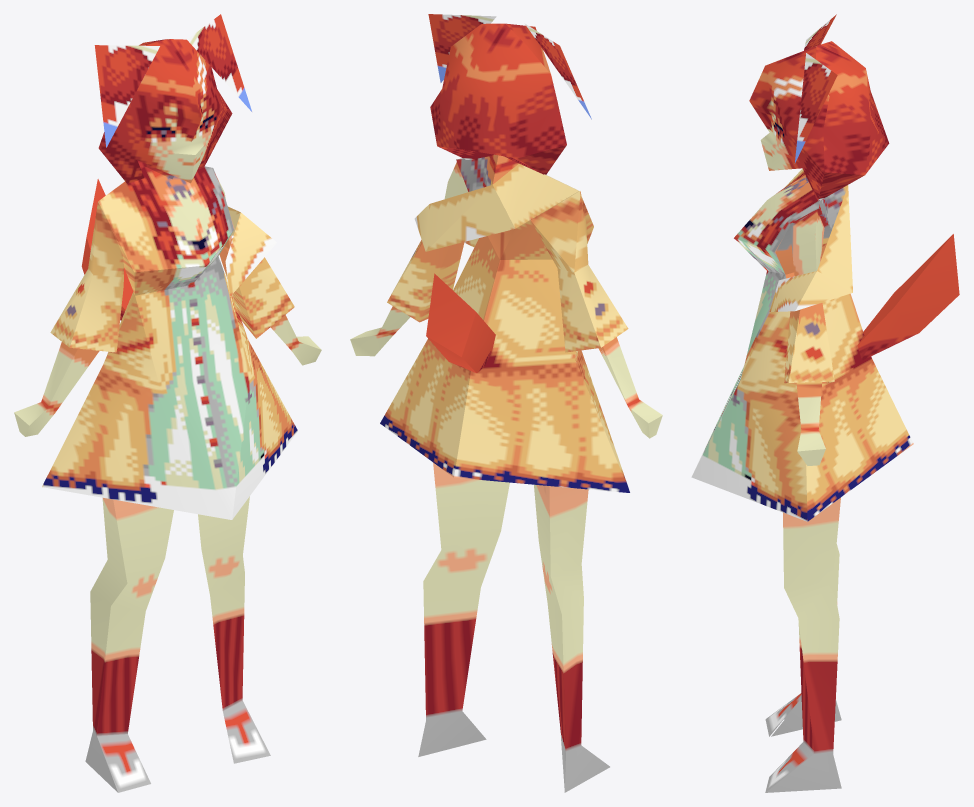
File: inugami_korone_for_256fes.glb
3 renders of one model, left to right at view 1: azimuth 30°, elevation 25°; view 2: azimuth 150°, elevation 25°; view 3: azimuth 270°, elevation 25°, orthographic. The views are drawn at different scales.
Parts seen in each view (by area): view 1: Object_2; view 2: Object_2; view 3: Object_2.
Part boxes in pixels (x1,y1,x2,y2): Object_2: (14,14,321,792); Object_2: (350,14,662,792); Object_2: (691,14,959,792).
Size of the model in its own units: 124 by 294 by 100.
Materials: 1 (1 with a texture image).
